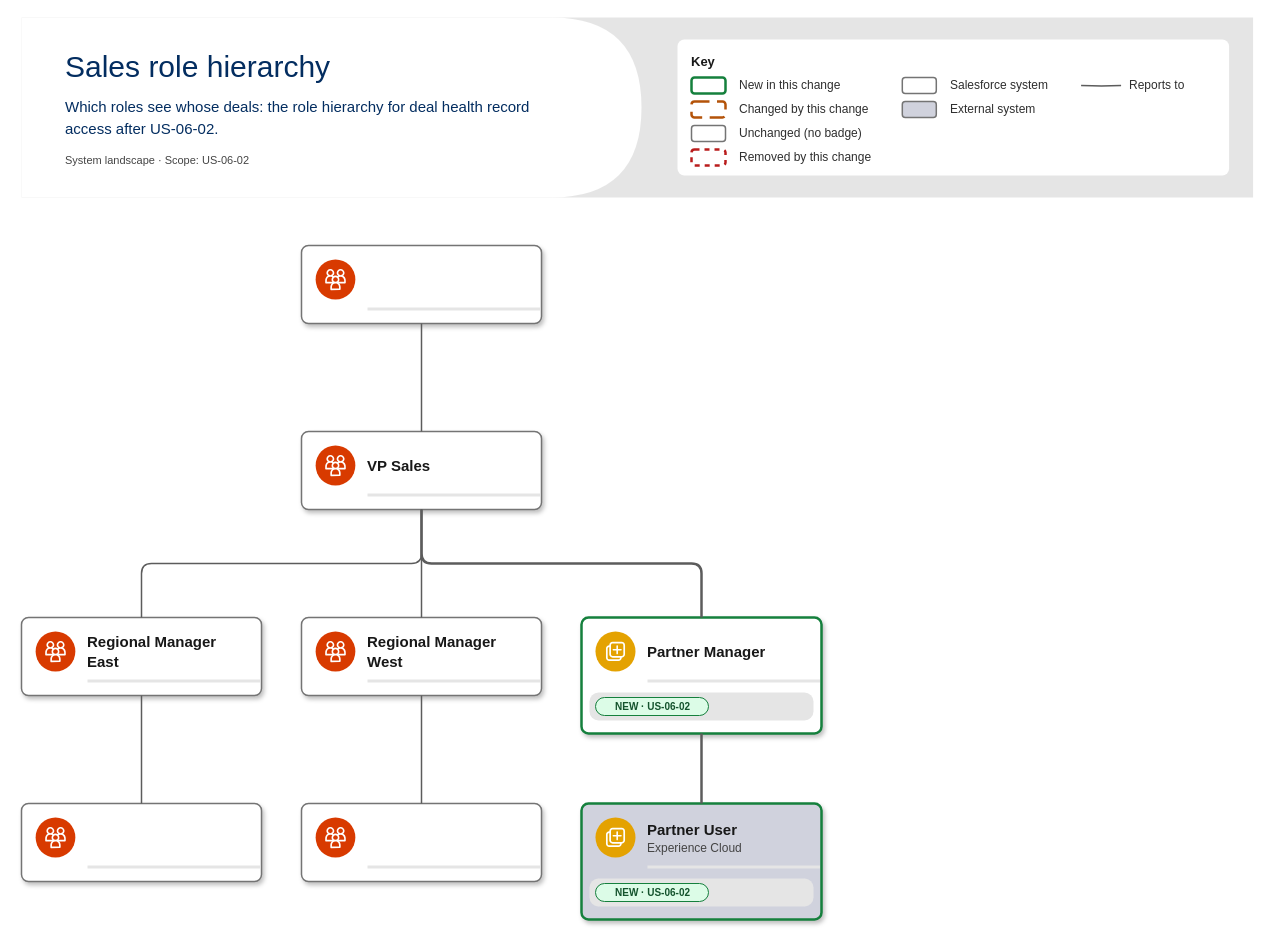
This 1271x945 diagram has some shape labels left out. The shapes that lost their labels are listed below. From the top down, each one's centre as x and y in pixels, then its label:
At point 422,285: "CEO".
At point 142,843: "Sales Rep East".
At point 422,843: "Sales Rep West".
